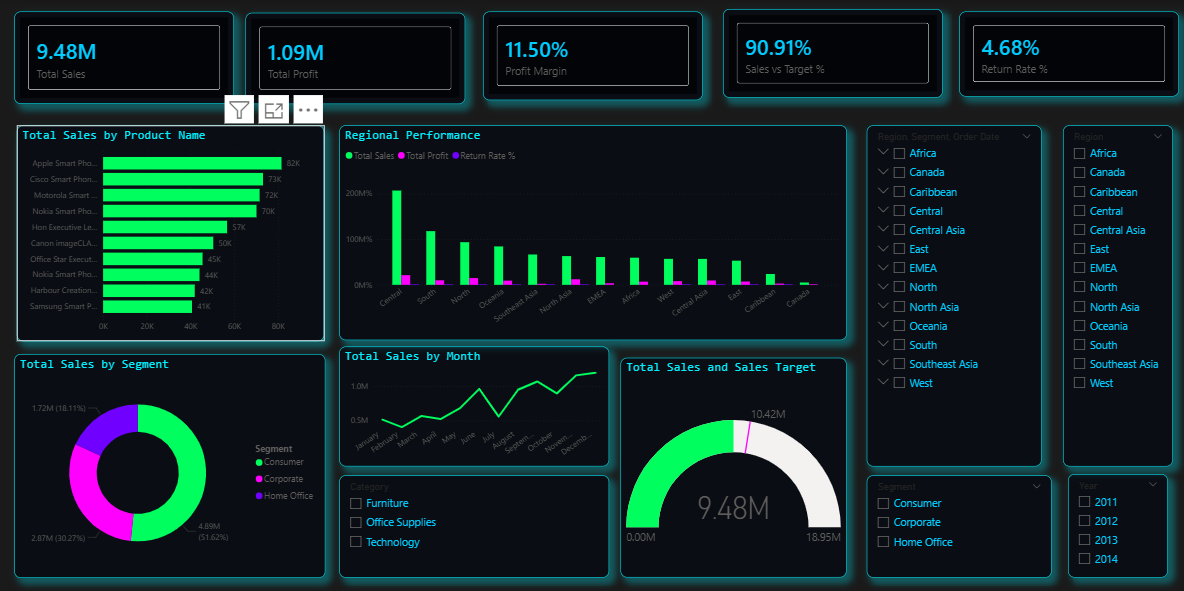

Layout of this report page (visuals, bound fields, positions):
{"tool":"powerbi","page":{"name":"Page 1","canvas":[1800,900],"ordinal":0},"visuals":[{"type":"cardVisual","fields":{"Data":["Orders.Total Sales"]},"box":[24.6,18.9,333.2,140.1],"z":0},{"type":"cardVisual","fields":{"Data":["Orders.Total Profit"]},"box":[374.8,20.8,333.2,138.2],"z":1000},{"type":"cardVisual","fields":{"Data":["Orders.Profit Margin"]},"box":[734.5,18.9,333.2,134.4],"z":2000},{"type":"cardVisual","fields":{"Data":["Orders.Sales vs Target %"]},"box":[1098,15.1,333.2,134.4],"z":3000},{"type":"cardVisual","fields":{"Data":["Orders.Return Rate %"]},"box":[1455.8,18.9,333.2,128.7],"z":4000},{"type":"lineChart","fields":{"Category":["Orders.Order Date.Variation.Date Hierarchy.Year","Orders.Order Date.Variation.Date Hierarchy.Quarter","Orders.Order Date.Variation.Date Hierarchy.Month","Orders.Order Date.Variation.Date Hierarchy.Day"],"Y":["Orders.Total Sales"]},"box":[516.8,526.3,408.9,181.7],"z":5000},{"type":"clusteredBarChart","fields":{"Category":["Orders.Product Name"],"Y":["Orders.Total Sales"]},"box":[28.4,191.2,465.7,327.5],"z":6000},{"type":"clusteredColumnChart","title":"Regional Performance","fields":{"Category":["Orders.Region"],"Y":["Orders.Total Sales","Orders.Total Profit","Orders.Return Rate %"]},"box":[516.8,191.2,768.6,325.6],"z":7000},{"type":"donutChart","fields":{"Category":["Orders.Segment"],"Y":["Orders.Total Sales"]},"box":[24.6,537.7,471.4,338.9],"z":8000},{"type":"slicer","fields":{"Values":["Orders.Region","Orders.Segment","Orders.Order Date"]},"box":[1315.7,191.2,265,516.8],"z":9000},{"type":"slicer","fields":{"Values":["Orders.Order Date.Variation.Date Hierarchy.Year"]},"box":[1620.5,719.4,151.5,157.1],"z":10000},{"type":"slicer","fields":{"Values":["Orders.Region"]},"box":[1613,191.2,166.6,516.8],"z":11000},{"type":"slicer","fields":{"Values":["Orders.Segment"]},"box":[1315.7,721.3,280.2,155.2],"z":12000},{"type":"slicer","fields":{"Values":["Orders.Category"]},"box":[516.8,721.3,408.9,155.2],"z":13000},{"type":"gauge","fields":{"Y":["Orders.Total Sales"],"TargetValue":["Orders.Sales Target"]},"box":[942.8,543.3,342.7,333.2],"z":14000}]}

Visuals, with their boxes in screenshot pixels (x1, y1, x2, y2), scaled from the page's 1800x900 canvas onto the 1184x591 screenshot:
cardVisual - Orders.Total Sales: x1=16, y1=12, x2=235, y2=104
cardVisual - Orders.Total Profit: x1=247, y1=14, x2=466, y2=104
cardVisual - Orders.Profit Margin: x1=483, y1=12, x2=702, y2=101
cardVisual - Orders.Sales vs Target %: x1=722, y1=10, x2=941, y2=98
cardVisual - Orders.Return Rate %: x1=958, y1=12, x2=1177, y2=97
lineChart - Orders.Order Date.Variation.Date Hierarchy.Year x Orders.Order Date.Variation.Date Hierarchy.Quarter: x1=340, y1=346, x2=609, y2=465
clusteredBarChart - Orders.Product Name x Orders.Total Sales: x1=19, y1=126, x2=325, y2=341
"Regional Performance" clusteredColumnChart: x1=340, y1=126, x2=846, y2=339
donutChart - Orders.Segment x Orders.Total Sales: x1=16, y1=353, x2=326, y2=576
slicer - Orders.Region x Orders.Segment: x1=865, y1=126, x2=1040, y2=465
slicer - Orders.Order Date.Variation.Date Hierarchy.Year: x1=1066, y1=472, x2=1166, y2=576
slicer - Orders.Region: x1=1061, y1=126, x2=1171, y2=465
slicer - Orders.Segment: x1=865, y1=474, x2=1050, y2=576
slicer - Orders.Category: x1=340, y1=474, x2=609, y2=576
gauge - Orders.Total Sales x Orders.Sales Target: x1=620, y1=357, x2=846, y2=576
